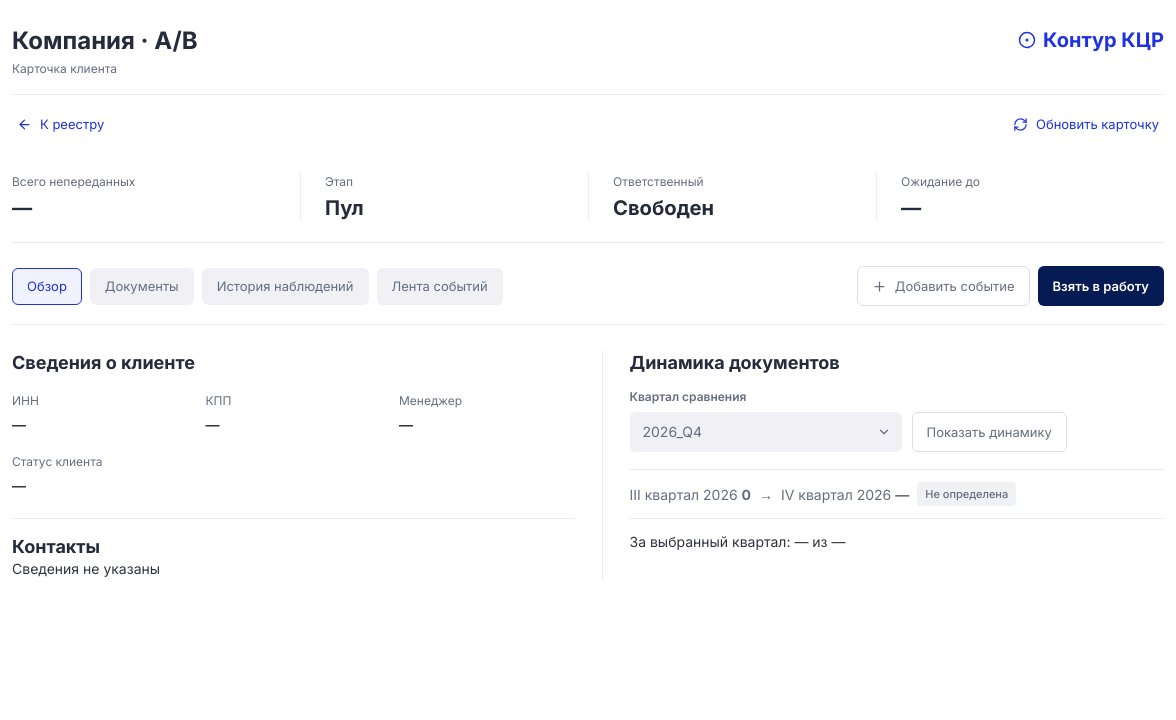
Scenario: takes a free client using the work cycle returned by Gateway
Step 1. Click the button "Взять в работу" → (1101, 286), box [1038,266,1164,306]
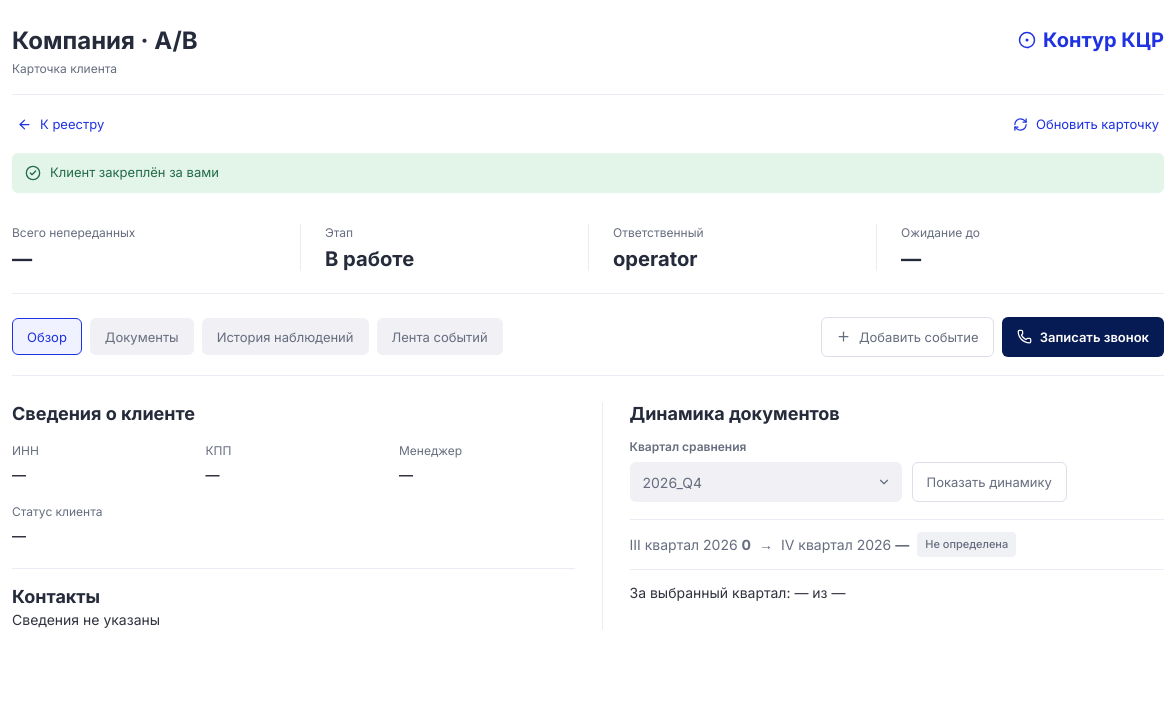
Expected: the text "operator" is shown, [613,246,698,271]
